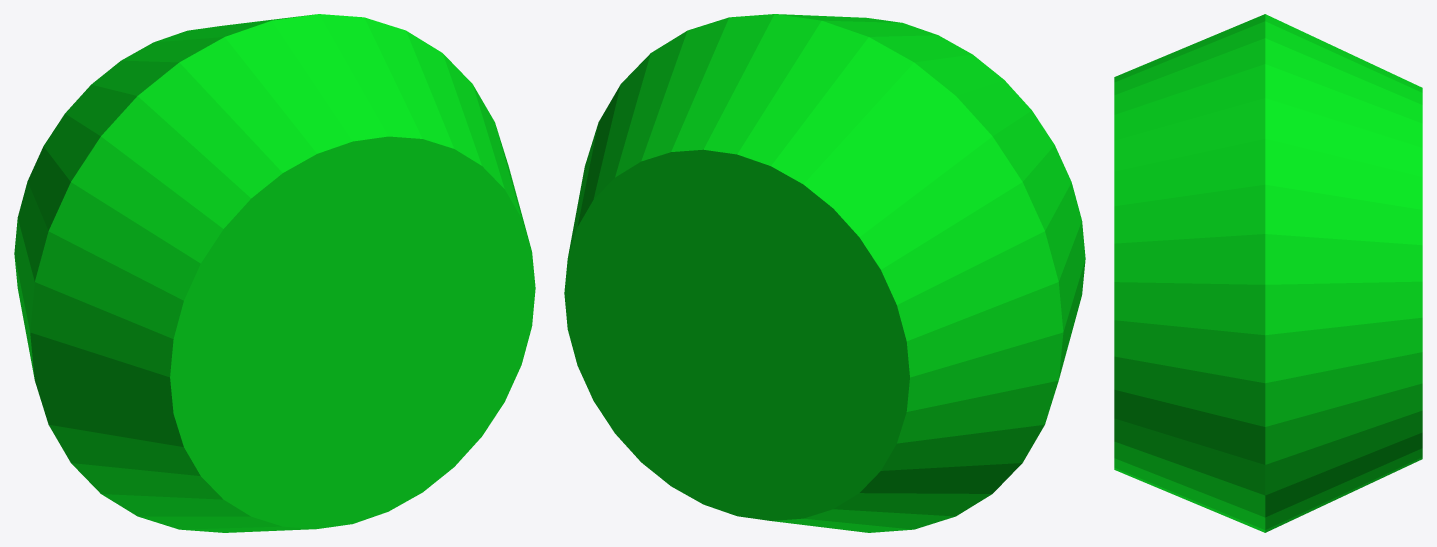
Rendered from bumper.fbx.
The picture shows the model from 3 angles, left to right: view 1: azimuth 30°, elevation 25°; view 2: azimuth 150°, elevation 25°; view 3: azimuth 270°, elevation 25°; orthographic projection. The views are drawn at different scales.
Parts seen in each view (by area): view 1: Bumper; view 2: Bumper; view 3: Bumper.
Boxes of the visible parts, x1,y1,x2,y2 form: Bumper: [14, 14, 535, 532]; Bumper: [564, 14, 1085, 532]; Bumper: [1114, 14, 1422, 532].
Size of the model in its own units: 499 by 499 by 296.
